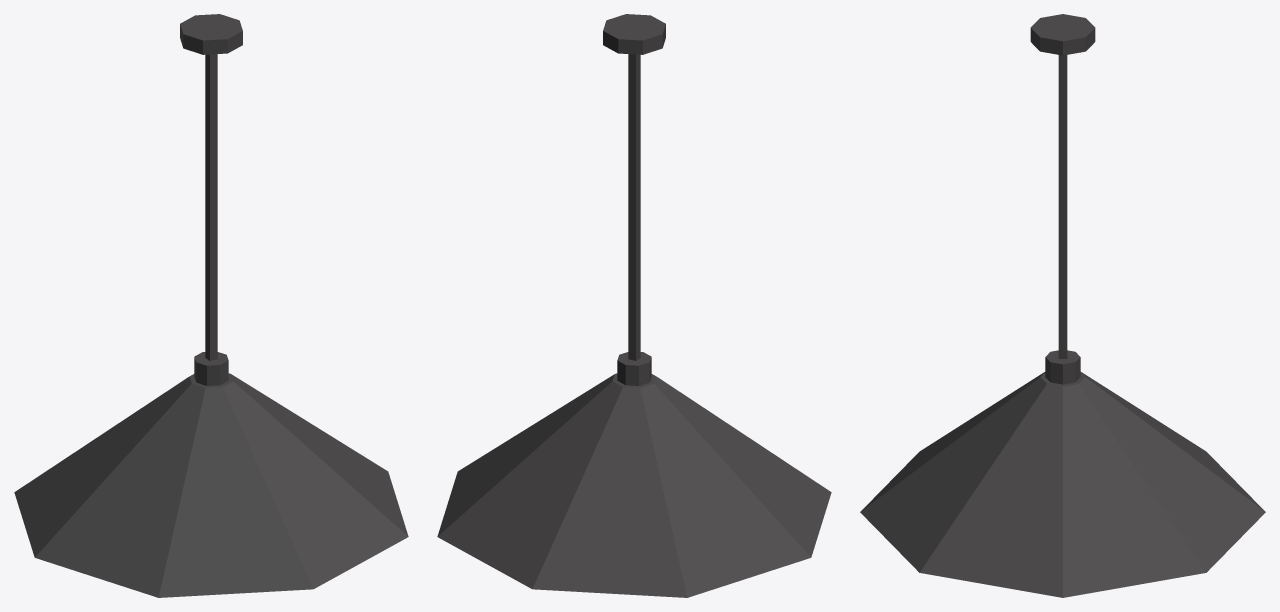
The model's file is Light.fbx.
3 views of the same model, side by side, from view 1: azimuth 30°, elevation 25°; view 2: azimuth 150°, elevation 25°; view 3: azimuth 270°, elevation 25° (orthographic).
Parts seen in each view (by area): view 1: Light; view 2: Light; view 3: Light.
Part boxes in pixels (bbox=[...]): Light: bbox=[14, 14, 408, 597]; Light: bbox=[437, 14, 831, 597]; Light: bbox=[860, 14, 1265, 597].
Bounding box in the file's own units: 46 × 63.23 × 46.
